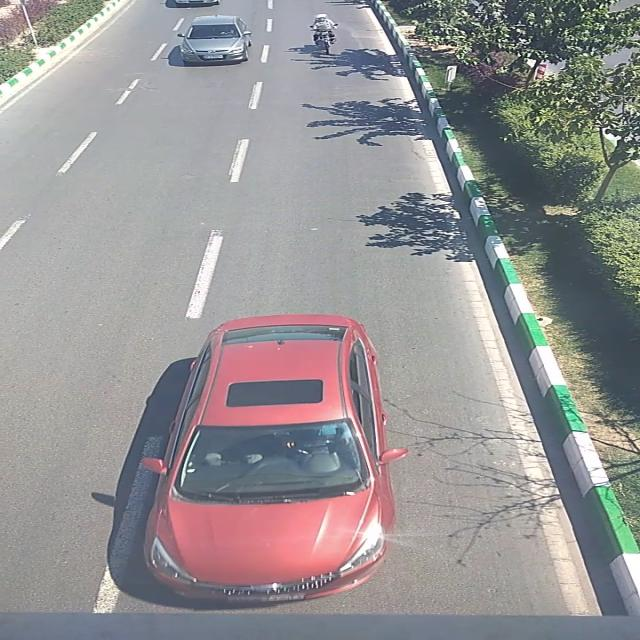car: (138, 314, 408, 602), (179, 15, 249, 67)
motor: (306, 13, 342, 53)
